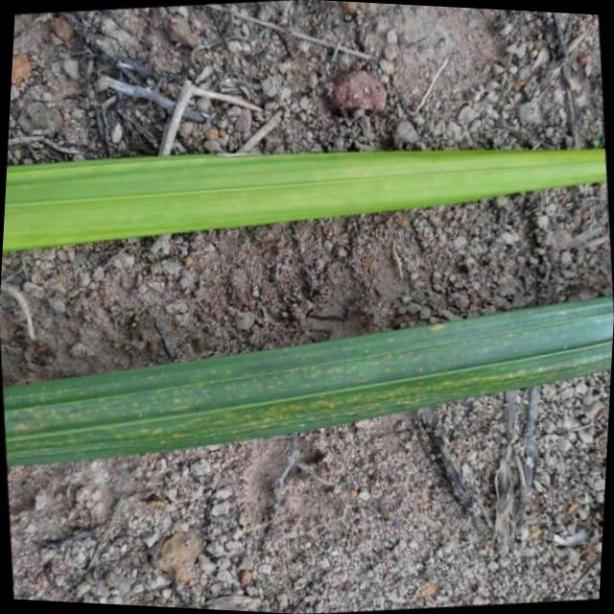nitrogen: (0, 144, 614, 249)
